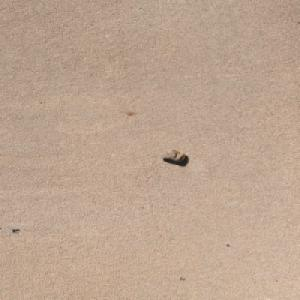Rock: (158, 148, 186, 162)
